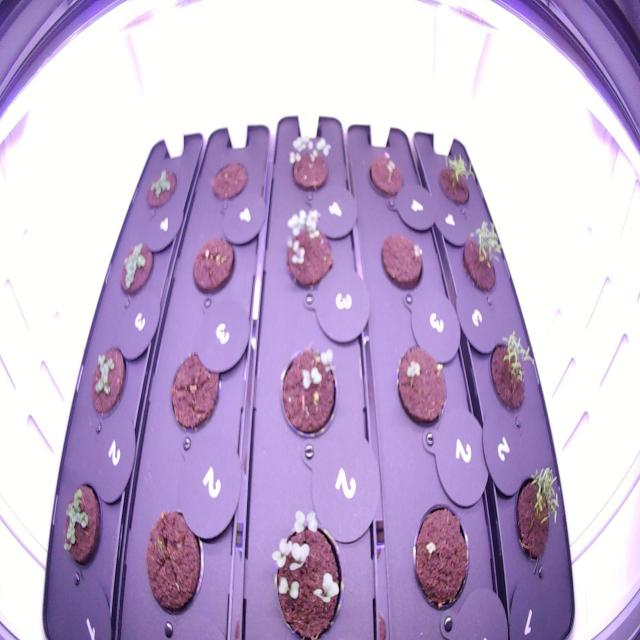germination: (260, 500, 351, 637), (404, 496, 474, 621), (272, 336, 345, 445), (508, 456, 568, 578), (484, 324, 544, 433), (277, 198, 337, 298), (392, 338, 451, 434), (53, 477, 104, 578), (456, 214, 509, 299), (280, 125, 335, 206), (375, 222, 429, 297), (84, 337, 131, 422), (429, 145, 478, 216), (113, 235, 158, 302), (361, 141, 408, 205), (140, 162, 180, 217)
pod: (139, 500, 210, 621), (162, 342, 225, 442), (187, 228, 239, 301), (206, 151, 253, 208)
